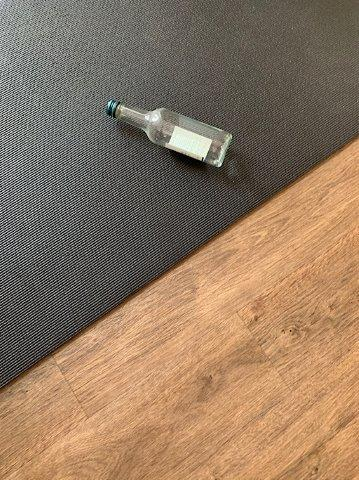botolkaca: (108, 98, 232, 167)
